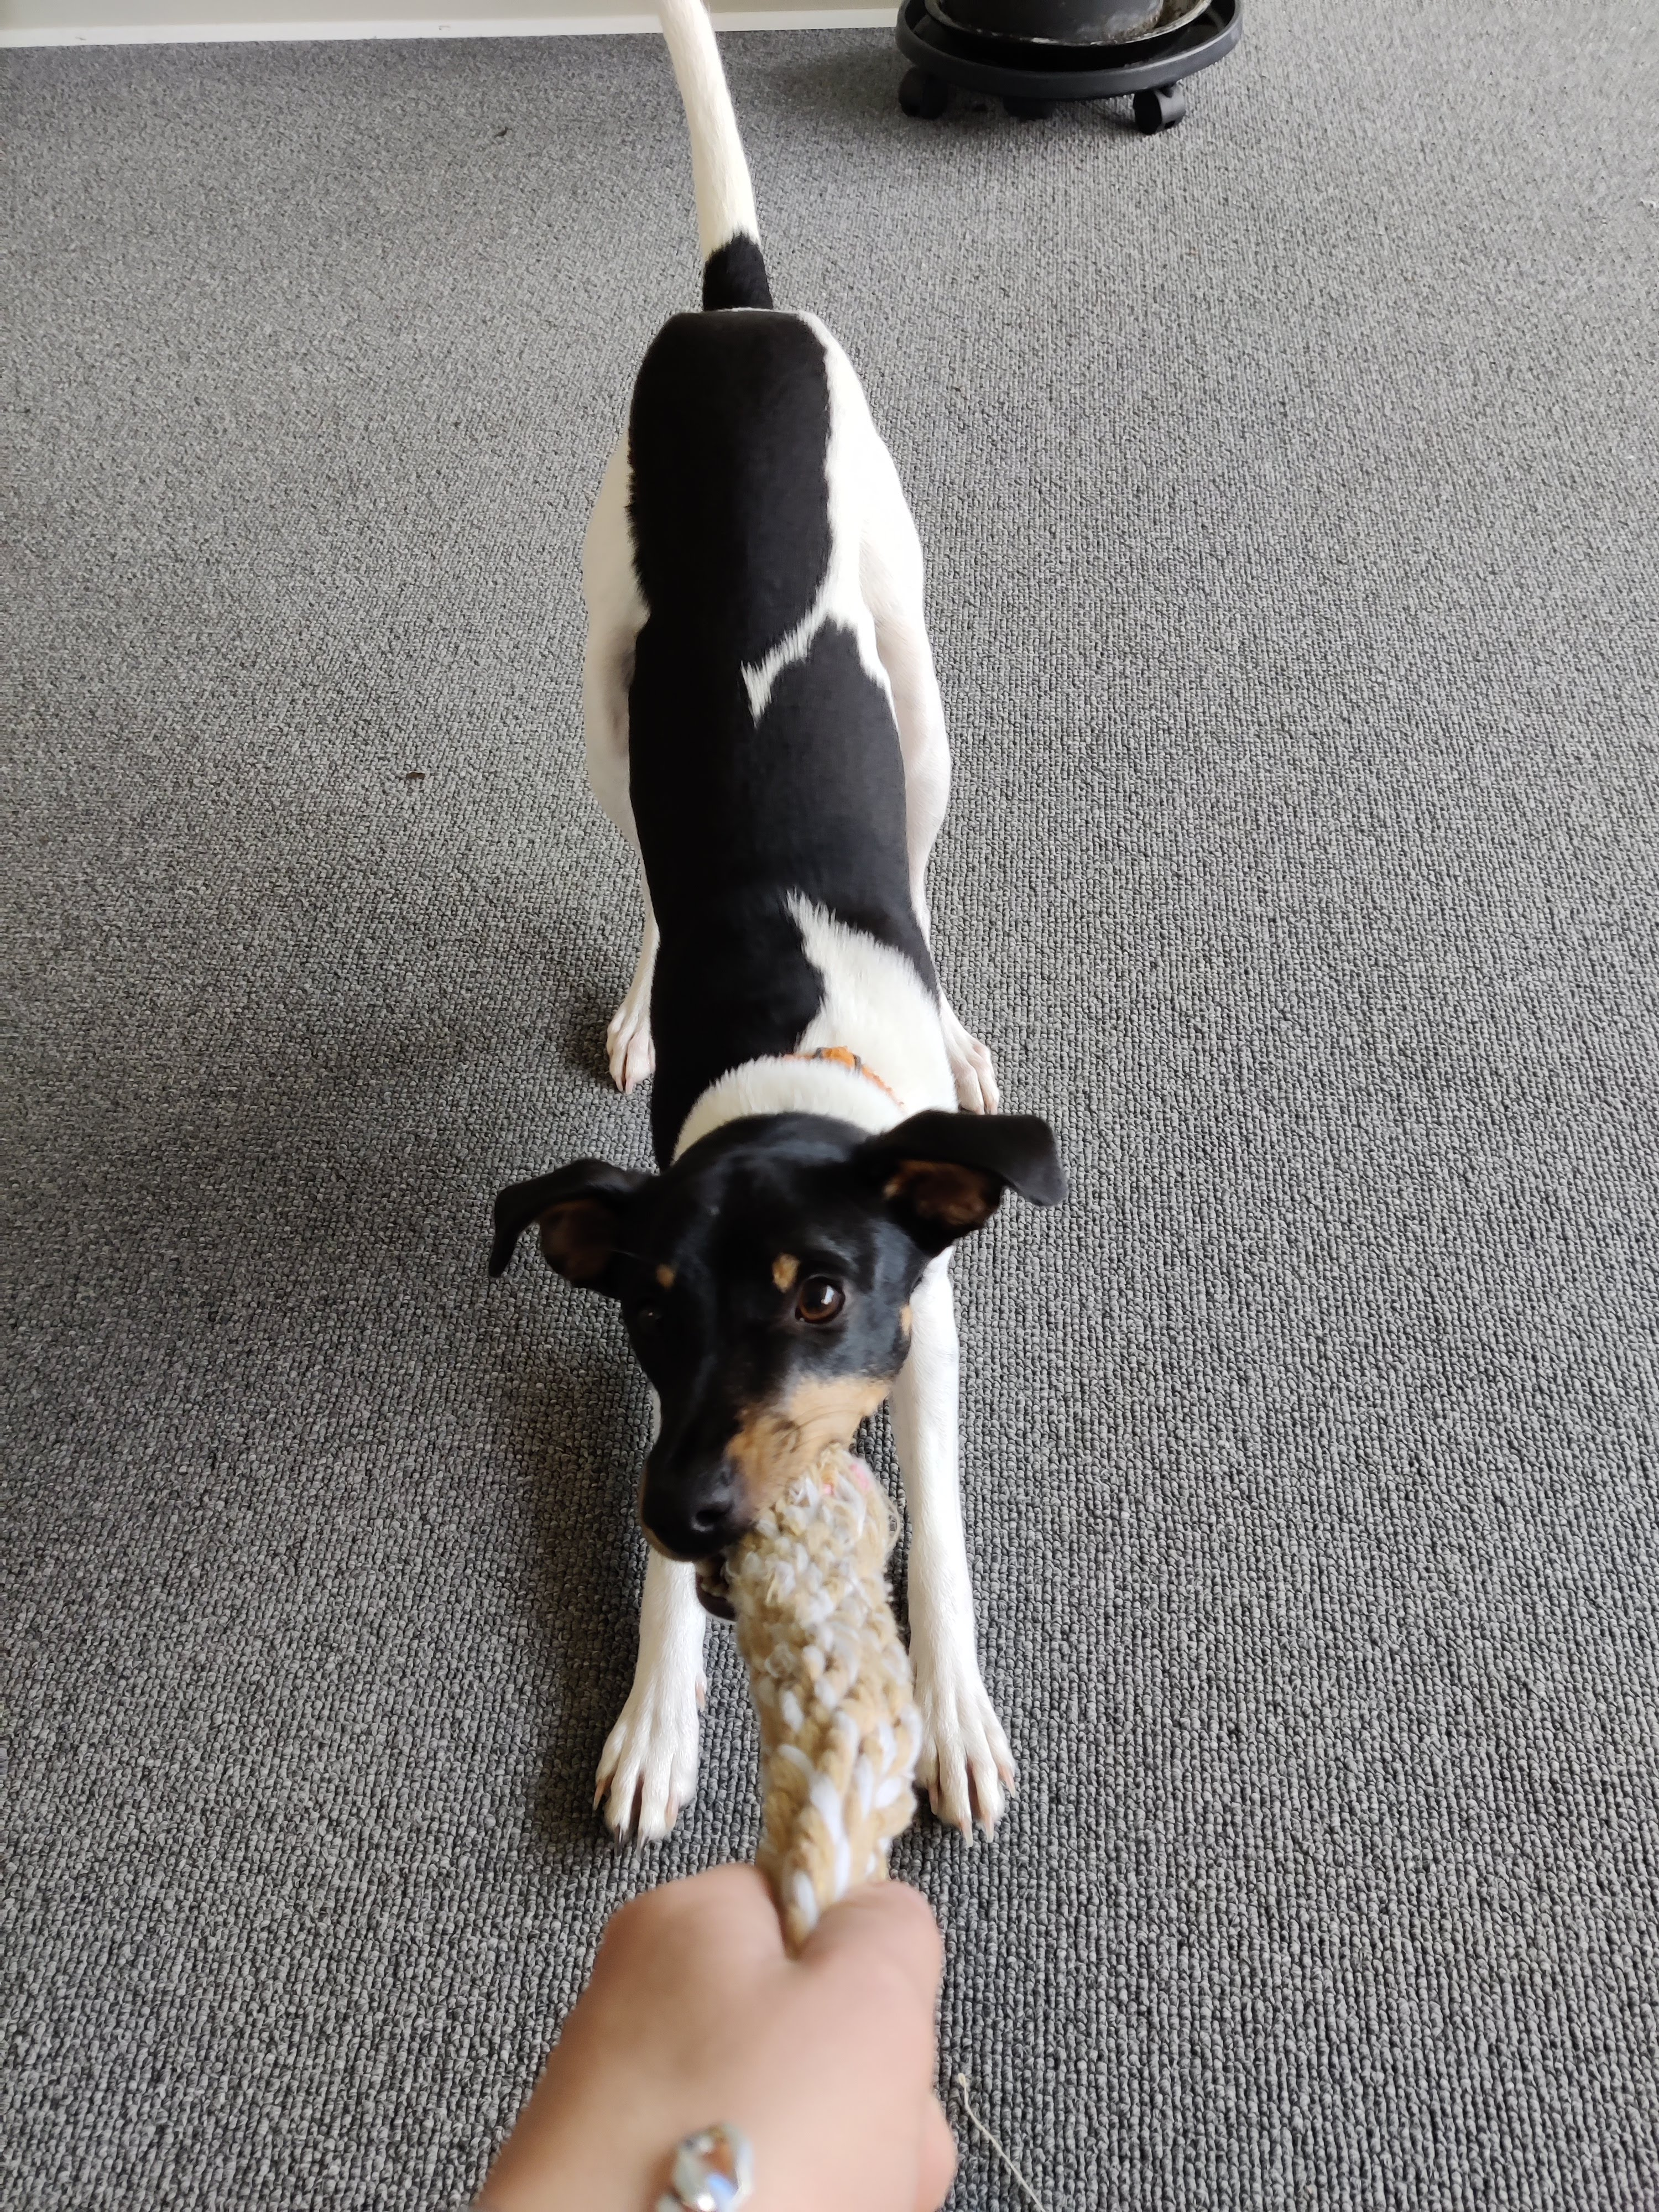Dog: (458, 0, 1091, 1850)
